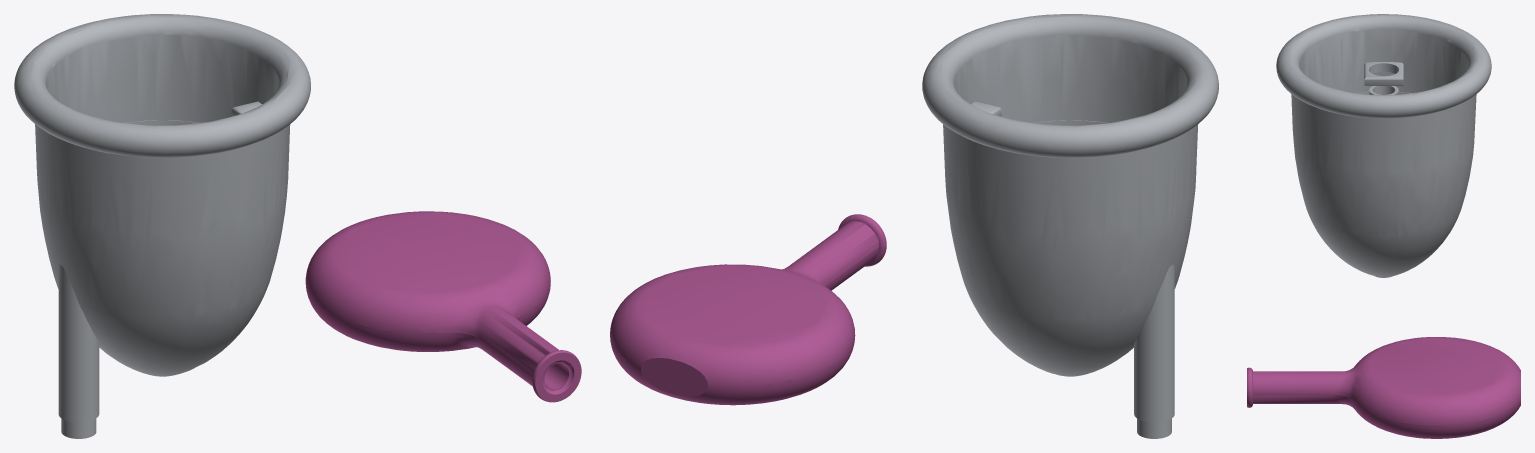
The model's file is concept-balloon.glb.
The picture shows the model from 3 angles, left to right: view 1: azimuth 30°, elevation 25°; view 2: azimuth 150°, elevation 25°; view 3: azimuth 270°, elevation 25°; orthographic projection. The views are drawn at different scales.
Visible parts, largest first — view 1: menstrual-cup-medium-without-balloon-0, balloon-top-mould-cavity, balloon-pipe-0; view 2: menstrual-cup-medium-without-balloon-0, balloon-top-mould-cavity, balloon-pipe-0; view 3: menstrual-cup-medium-without-balloon-0, balloon-top-mould-cavity, balloon-pipe-0.
Boxes of the visible parts, x1,y1,x2,y2 form: menstrual-cup-medium-without-balloon-0: [14, 14, 310, 376]; balloon-top-mould-cavity: [305, 211, 581, 402]; balloon-pipe-0: [58, 264, 99, 438]; menstrual-cup-medium-without-balloon-0: [922, 14, 1218, 376]; balloon-top-mould-cavity: [610, 214, 886, 405]; balloon-pipe-0: [1134, 264, 1174, 438]; menstrual-cup-medium-without-balloon-0: [1276, 14, 1491, 277]; balloon-top-mould-cavity: [1247, 337, 1520, 438]; balloon-pipe-0: [1369, 86, 1398, 277].
Size of the model in its own units: 0.096 by 0.0581 by 0.0585.
